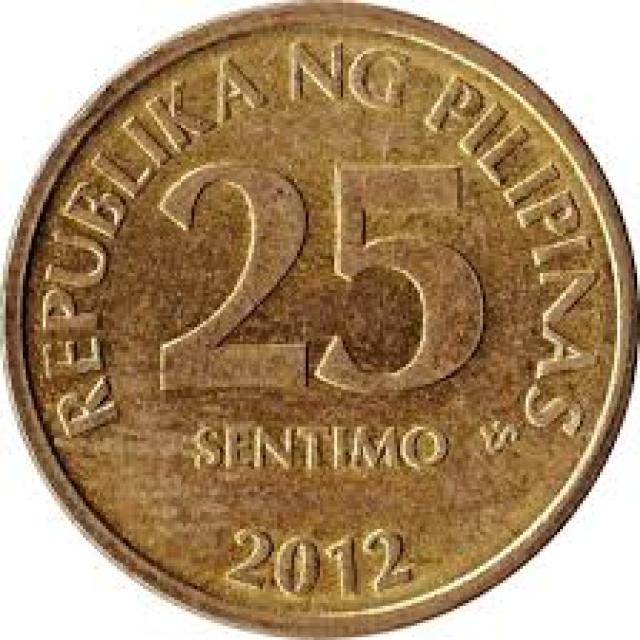25 cents-old: (5, 0, 640, 637)
